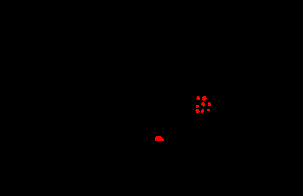Target: (155, 136, 164, 141), (202, 96, 207, 101), (201, 102, 205, 107), (195, 109, 200, 113), (196, 96, 200, 100), (208, 102, 211, 106), (201, 109, 204, 113), (196, 105, 199, 108), (207, 109, 210, 111)
